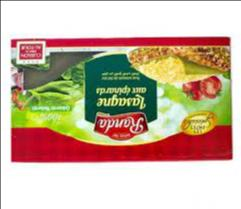lasagne: (11, 39, 231, 158)
